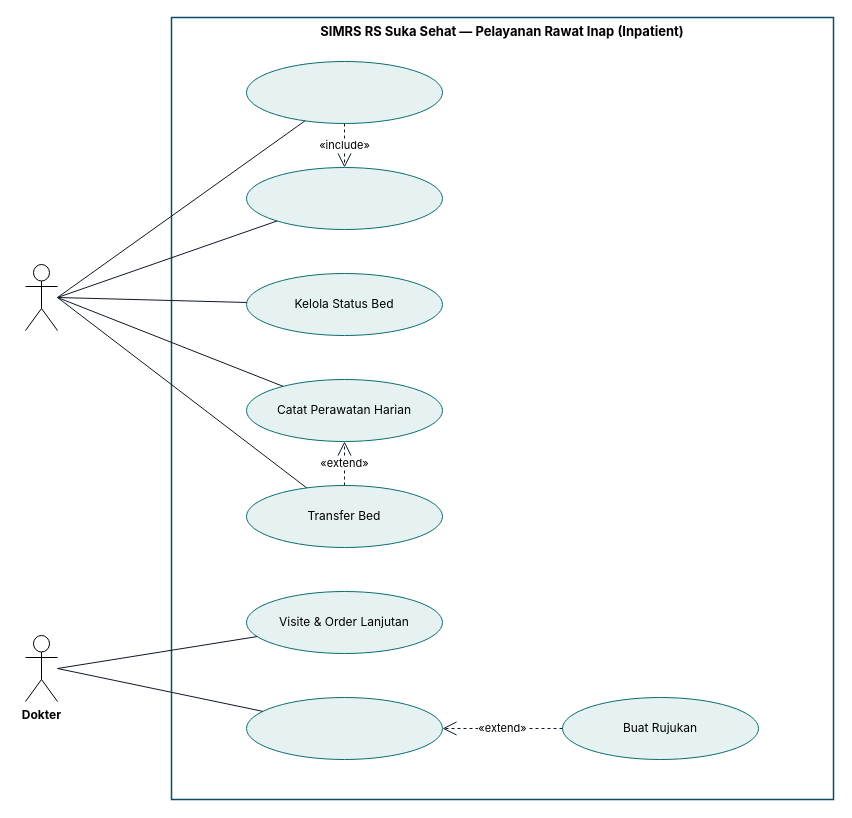
The diagram is 852 pixels wide and 818 high, and some of its shapes have lost their labels. The centre of each missing label's shape, as x and y in pixels:
Admisi Pasien: the point at 344,92
Alokasi Kamar & Bed: the point at 344,198
Pemulangan Pasien: the point at 344,728
Perawat: the point at 41,297
